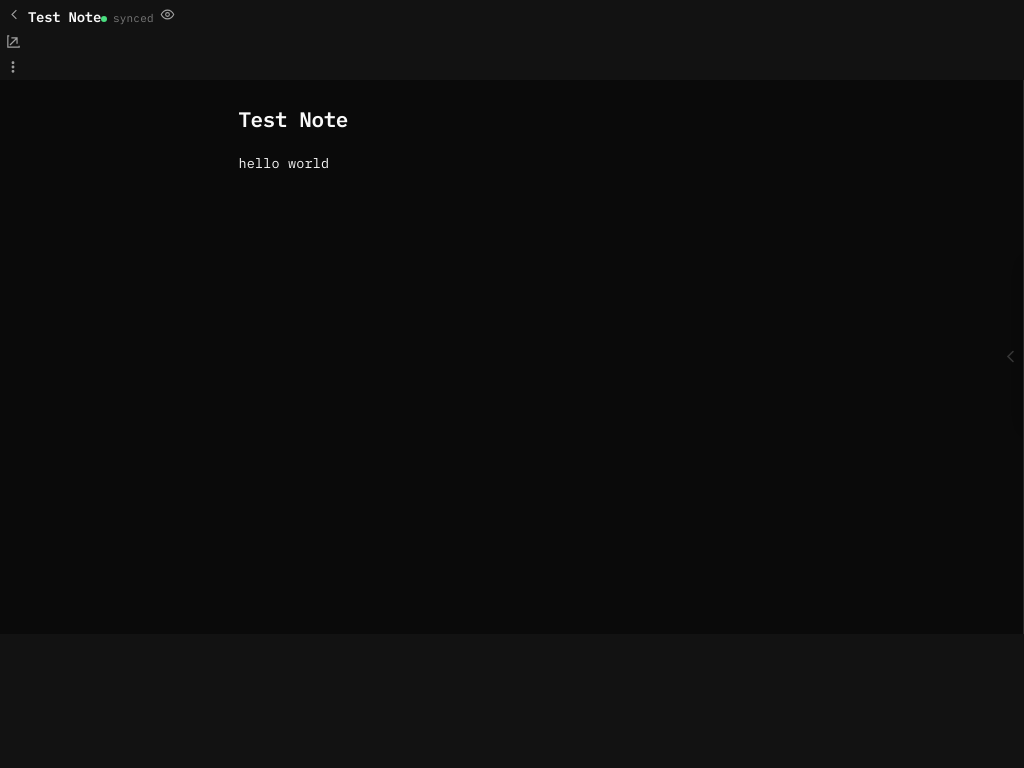
Test: NoteEditor — Escape precedence › closes the pinned drawer next, when the menu is closed and the toolbar is unlocked
The width and height of the screenshot is (1024, 768).
Expected: the button named "Back" is shown, 0,0 -> 28,28
Expected: the heading "Test Note" is shown, 238,105 -> 348,133
Click the button named "More".
click(13, 67)  # box 0,54 -> 26,80
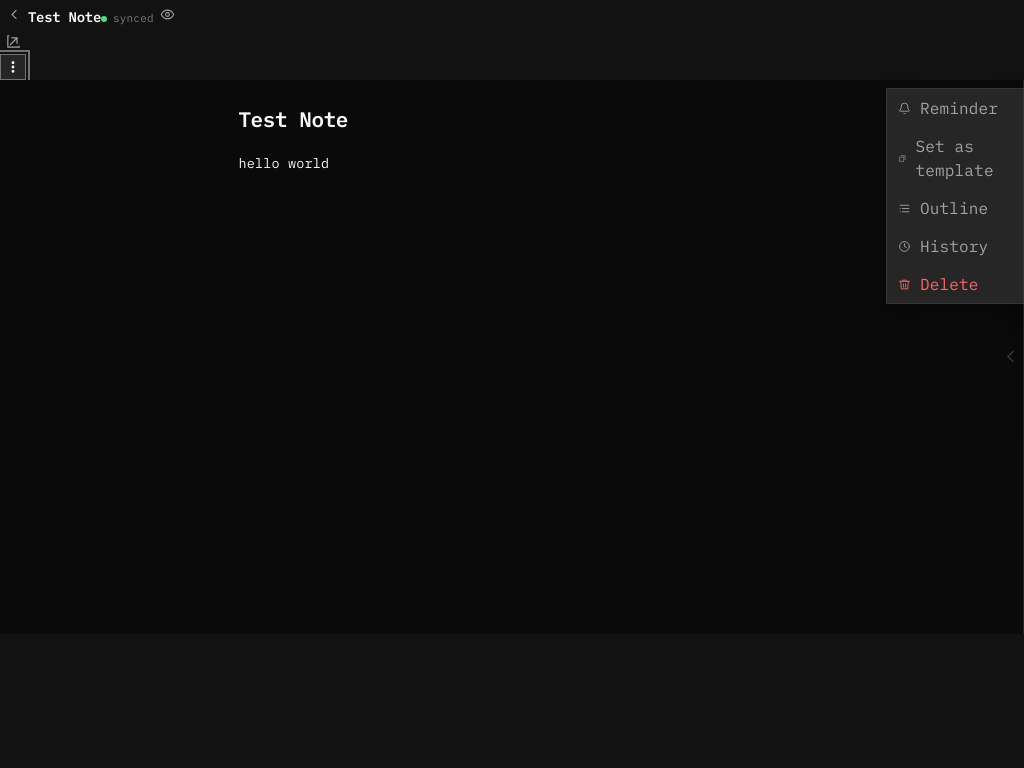
Click the menu item "Outline".
click(955, 208)  # box 887,189 -> 1023,227
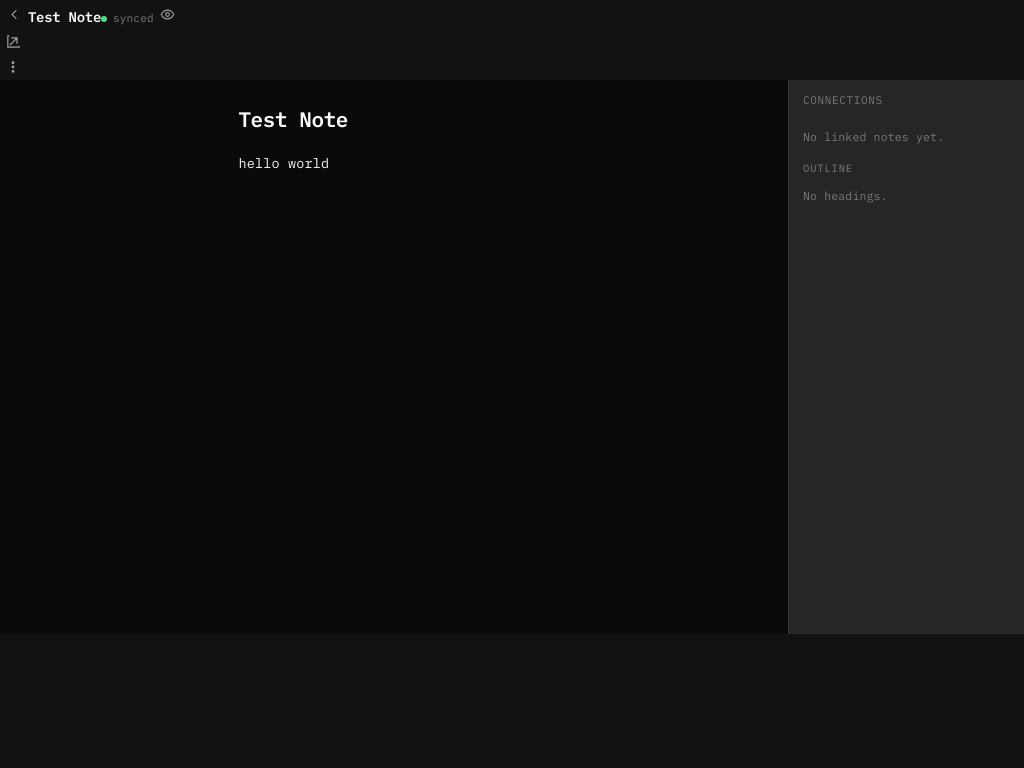
Expected: the text "CONNECTIONS" is shown, 789,80 -> 1023,118
Press Escape
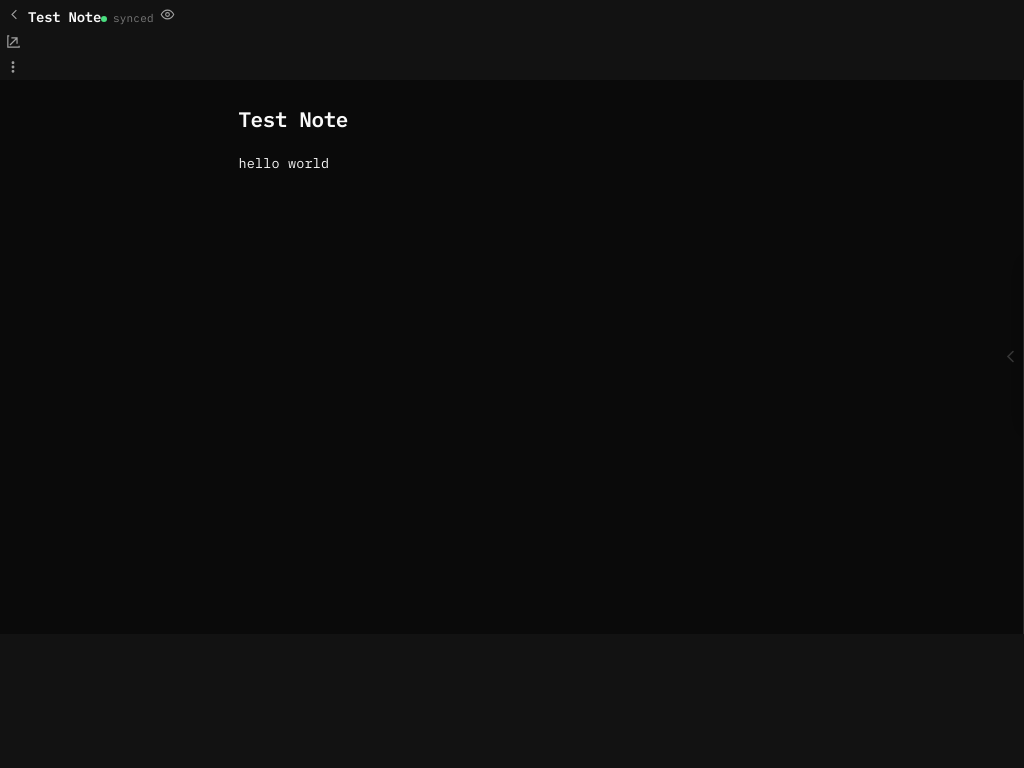
Expected: the text "CONNECTIONS" is gone
